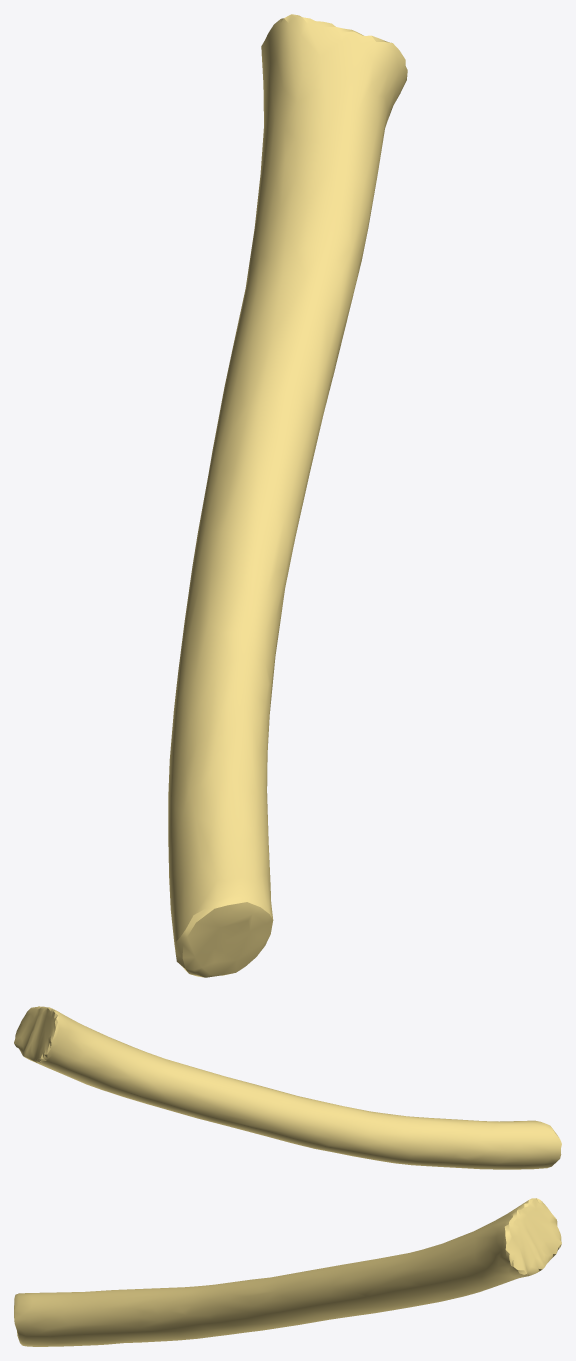
The model's file is fma50875_fj7501.glb.
The picture shows the model from 3 angles, top to bottom: view 1: azimuth 30°, elevation 25°; view 2: azimuth 150°, elevation 25°; view 3: azimuth 270°, elevation 25°; orthographic projection. The views are drawn at different scales.
Visible parts, largest first — view 1: FMA50875_FJ7501; view 2: FMA50875_FJ7501; view 3: FMA50875_FJ7501.
Part boxes in pixels (left/top/right/bottom): FMA50875_FJ7501: left=168, top=14, right=407, bottom=977; FMA50875_FJ7501: left=14, top=1006, right=561, bottom=1169; FMA50875_FJ7501: left=14, top=1198, right=561, bottom=1346.
Bounding box in the file's own units: 0.0275 × 0.0202 × 0.0347.
